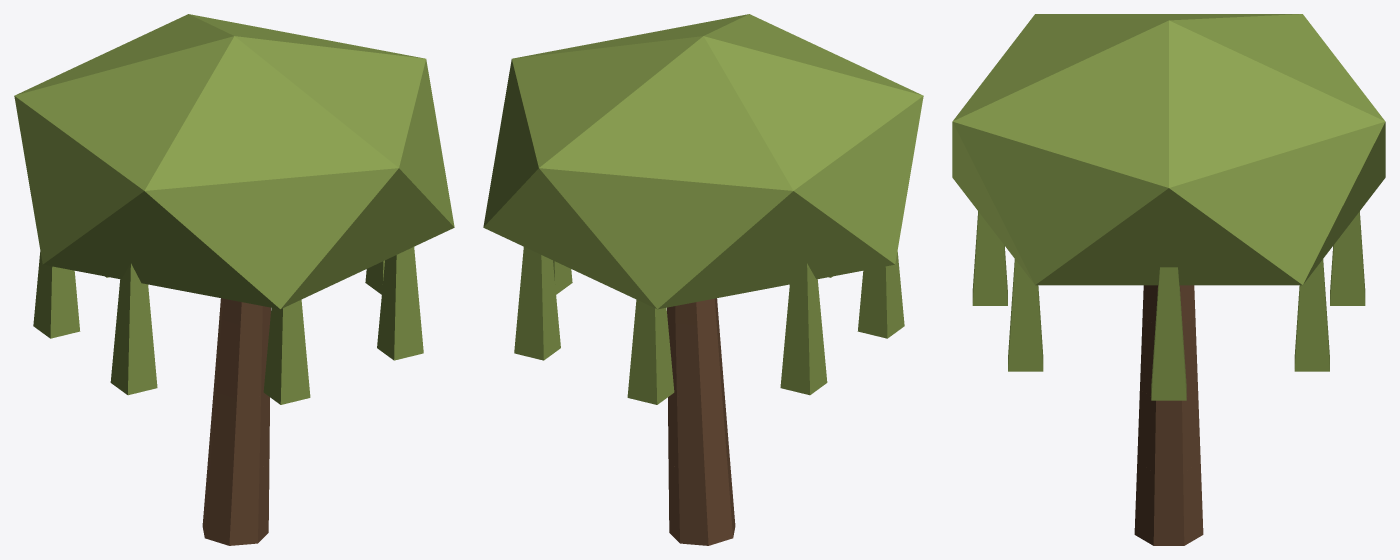
Rendered from VG_Tree_Willow.fbx.
The picture shows the model from 3 angles, left to right: view 1: azimuth 30°, elevation 25°; view 2: azimuth 150°, elevation 25°; view 3: azimuth 270°, elevation 25°; orthographic projection. The views are drawn at different scales.
Visible parts, largest first — view 1: VG_Tree_Willow_Mesh; view 2: VG_Tree_Willow_Mesh; view 3: VG_Tree_Willow_Mesh.
Boxes of the visible parts, x1,y1,x2,y2 form: VG_Tree_Willow_Mesh: (14, 14, 454, 545); VG_Tree_Willow_Mesh: (483, 14, 923, 545); VG_Tree_Willow_Mesh: (952, 14, 1385, 545).
Bounding box in the file's own units: 3.35 × 4.16 × 3.19.
